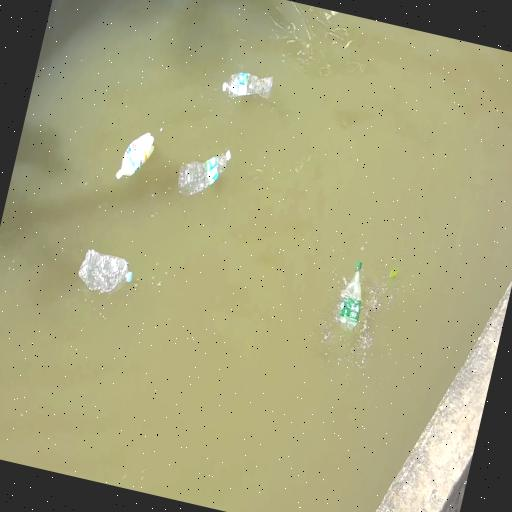plastic: (78, 249, 132, 294), (178, 150, 231, 195), (116, 133, 154, 179), (339, 262, 361, 330), (222, 73, 273, 98)
